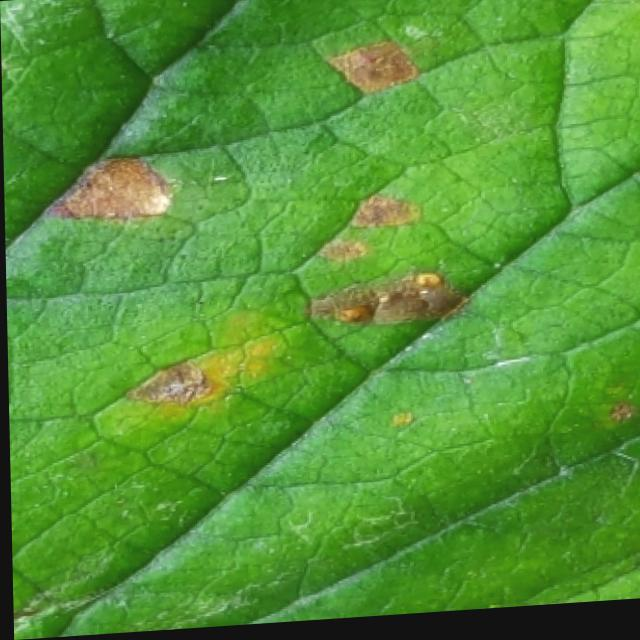Angular Leafspot: (25, 0, 640, 460)
